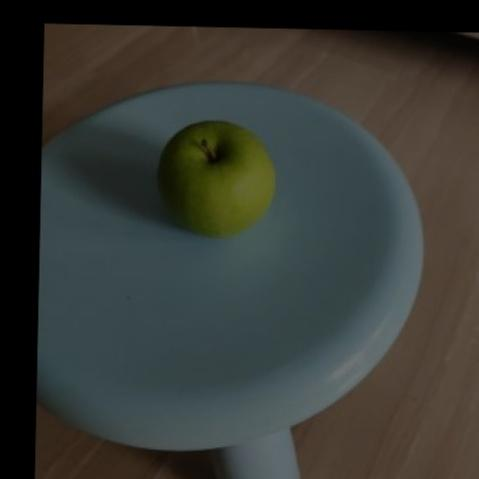green apple: (156, 119, 280, 240)
